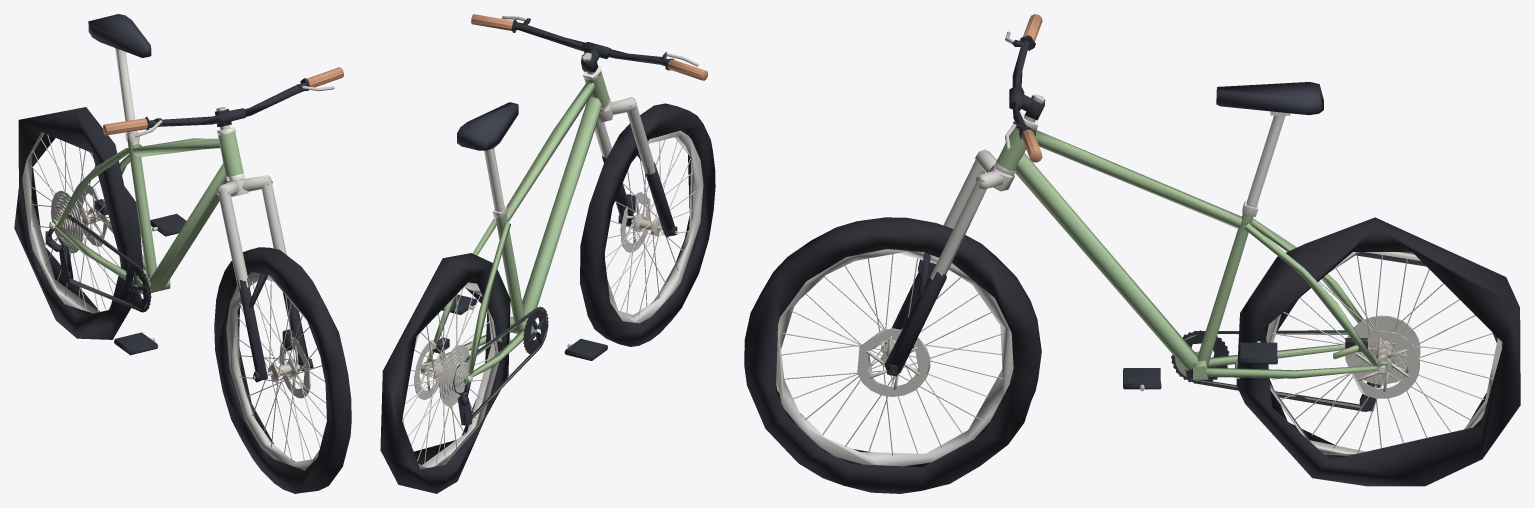
Rendered from n_mtb.glb.
3 views of the same model, side by side, from view 1: azimuth 30°, elevation 25°; view 2: azimuth 150°, elevation 25°; view 3: azimuth 270°, elevation 25° (orthographic). The views are drawn at different scales.
Parts seen in each view (by area): view 1: mountain-bike_wheel_front, mountain-bike_wheel_rear, mountain-bike_body, mountain-bike_steering, mountain-bike_crank; view 2: mountain-bike_wheel_front, mountain-bike_wheel_rear, mountain-bike_body, mountain-bike_steering, mountain-bike_crank; view 3: mountain-bike_wheel_front, mountain-bike_wheel_rear, mountain-bike_body, mountain-bike_steering, mountain-bike_crank.
Part boxes in pixels (left/top/right/bottom): mountain-bike_wheel_front: left=214, top=247, right=351, bottom=493; mountain-bike_wheel_rear: left=14, top=107, right=143, bottom=339; mountain-bike_body: left=45, top=14, right=244, bottom=311; mountain-bike_steering: left=103, top=67, right=344, bottom=382; mountain-bike_crank: left=114, top=213, right=186, bottom=355; mountain-bike_wheel_front: left=580, top=103, right=715, bottom=346; mountain-bike_wheel_rear: left=380, top=253, right=510, bottom=493; mountain-bike_body: left=420, top=65, right=610, bottom=426; mountain-bike_steering: left=471, top=14, right=707, bottom=237; mountain-bike_crank: left=442, top=294, right=607, bottom=360; mountain-bike_wheel_front: left=744, top=217, right=1041, bottom=493; mountain-bike_wheel_rear: left=1236, top=217, right=1520, bottom=486; mountain-bike_body: left=995, top=82, right=1387, bottom=411; mountain-bike_steering: left=884, top=14, right=1045, bottom=376; mountain-bike_crank: left=1123, top=330, right=1277, bottom=391.
Size of the model in its own units: 0.7783 by 1.08 by 1.86.
2 materials, 1 textured.
